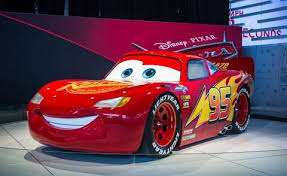mcqueen: (26, 48, 256, 159)
